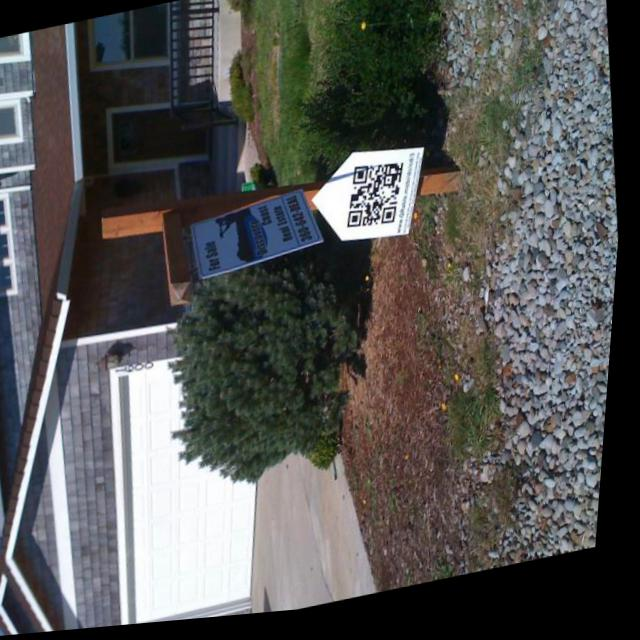qrcode: (345, 165, 414, 239)
